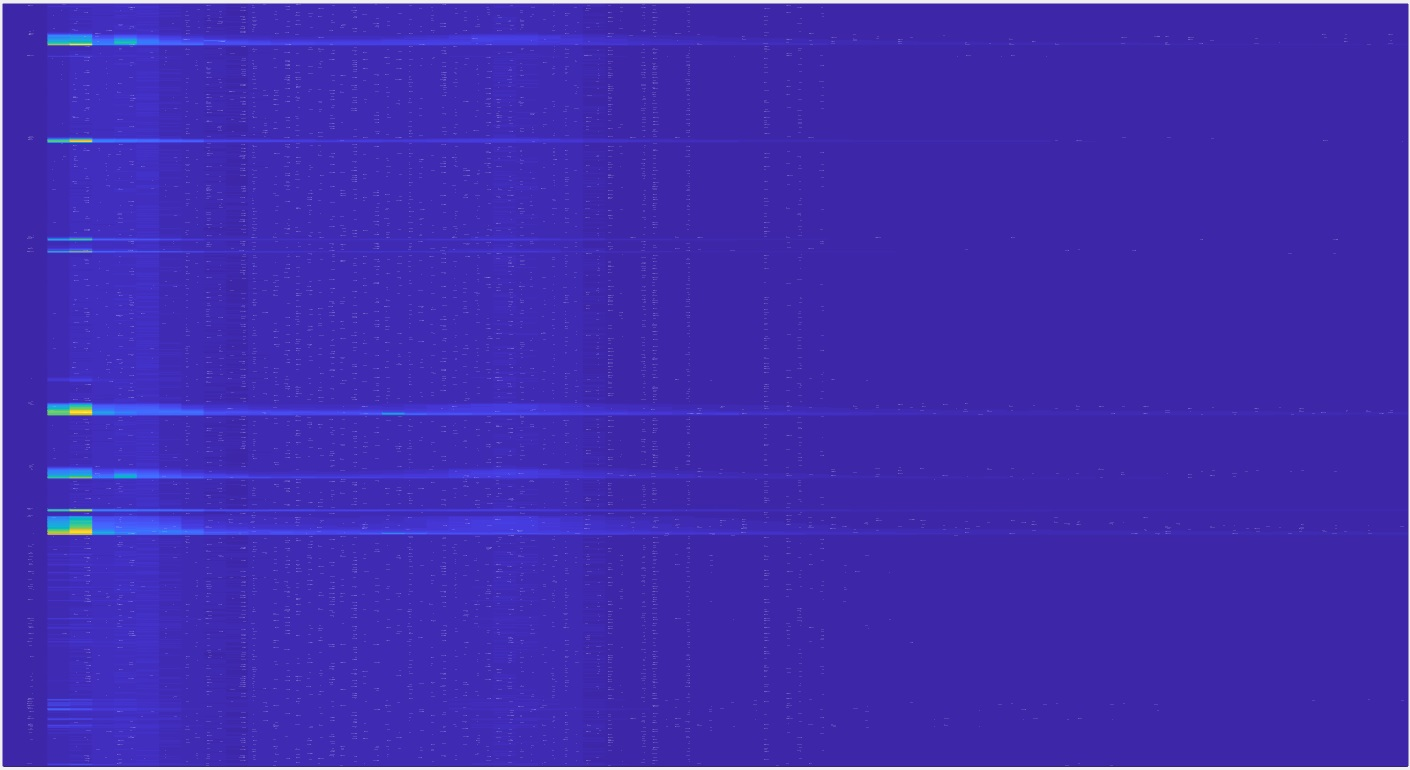leak: (42, 441, 193, 477)
